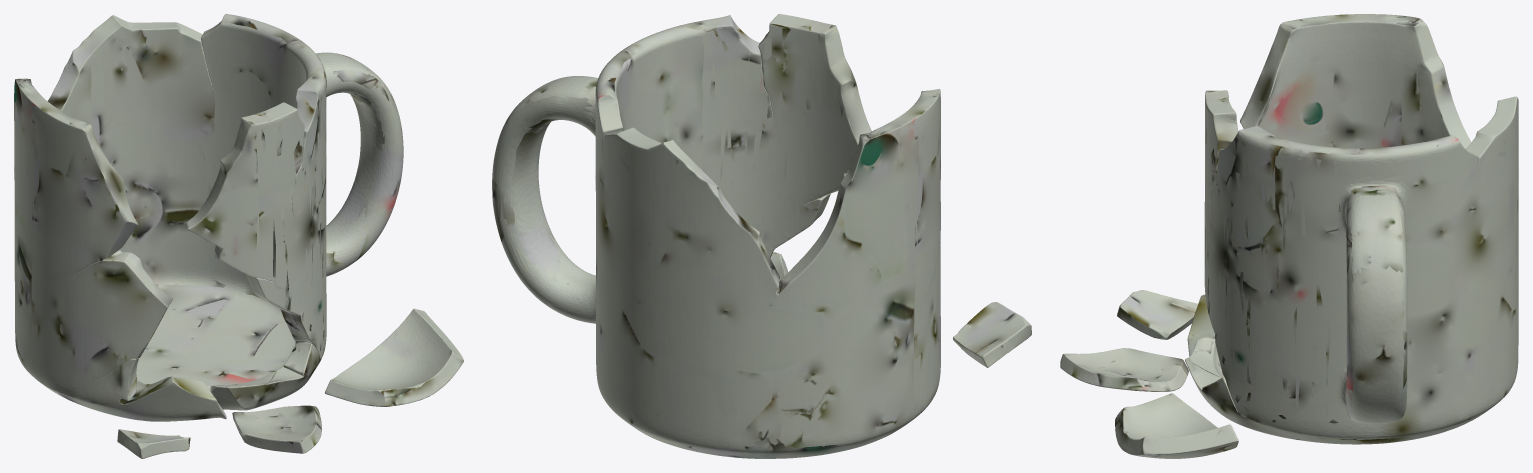
The model's file is kırıkKupa.obj.
3 views of the same model, side by side, from view 1: azimuth 30°, elevation 25°; view 2: azimuth 150°, elevation 25°; view 3: azimuth 270°, elevation 25° (orthographic). The views are drawn at different scales.
Parts seen in each view (by area): view 1: material; view 2: material; view 3: material.
Boxes of the visible parts, box(x1,y1,x2,y2) form: material: box(14, 14, 463, 458); material: box(492, 14, 1031, 458); material: box(1060, 14, 1518, 458).
Size of the model in its own units: 0.8645 by 0.6436 by 0.8842.
